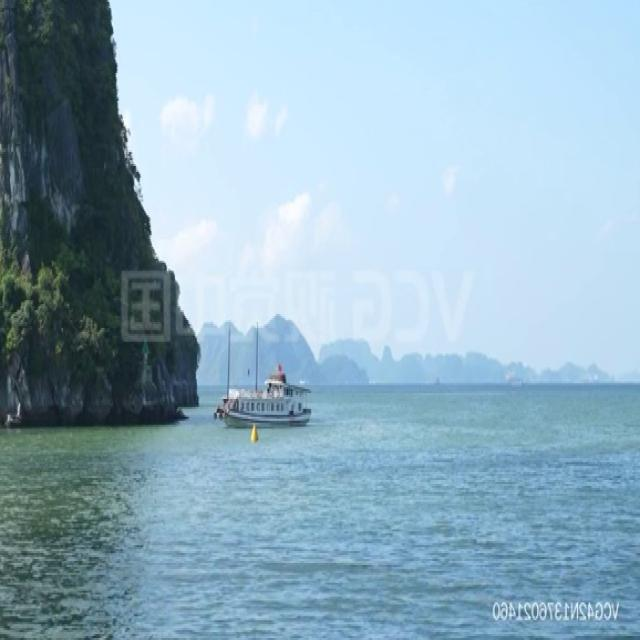passenger ship: (220, 356, 316, 426)
